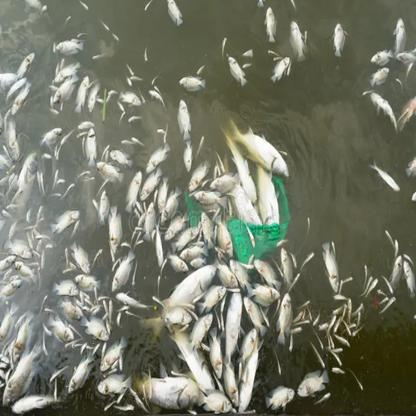deceased fish: (145, 264, 218, 337), (225, 118, 290, 178), (1, 346, 51, 405), (132, 372, 199, 410), (252, 162, 280, 232), (238, 326, 258, 415), (8, 389, 64, 415), (108, 249, 138, 293), (224, 287, 242, 360), (63, 354, 94, 394), (321, 241, 344, 291), (370, 90, 398, 130), (106, 205, 126, 258), (100, 336, 130, 371), (52, 207, 80, 244), (296, 369, 330, 399), (8, 80, 37, 115), (122, 169, 144, 212), (186, 160, 213, 195), (92, 372, 133, 395), (370, 162, 400, 193), (142, 141, 172, 172), (253, 257, 281, 290), (257, 385, 296, 408), (275, 292, 292, 344), (287, 21, 307, 60), (75, 75, 94, 114), (278, 247, 297, 286), (71, 241, 94, 273), (214, 217, 233, 255), (225, 56, 248, 86), (330, 20, 348, 58), (271, 53, 293, 84), (84, 316, 110, 341), (86, 80, 104, 115), (12, 51, 36, 77), (263, 6, 279, 43), (177, 99, 191, 141), (401, 260, 416, 299), (50, 38, 86, 54), (6, 236, 32, 258), (395, 18, 410, 56), (200, 214, 215, 252), (177, 74, 206, 93), (41, 125, 62, 151), (57, 300, 84, 320), (83, 128, 96, 169), (72, 273, 101, 291), (50, 280, 80, 296), (165, 1, 183, 26), (392, 252, 404, 287), (116, 90, 142, 106), (368, 49, 395, 63), (371, 67, 390, 86)
